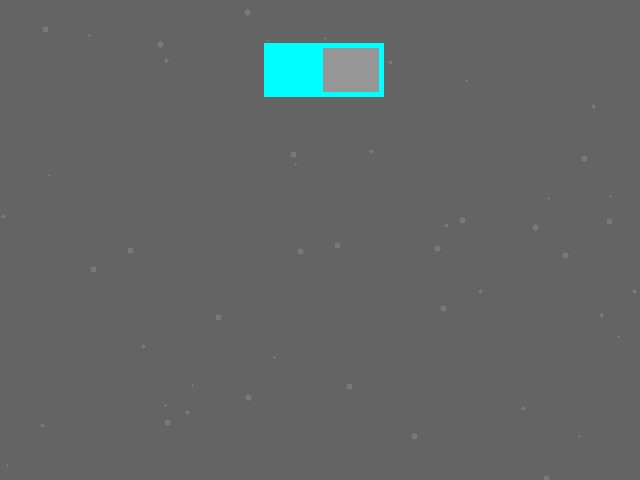truck: (264, 43, 383, 96)
